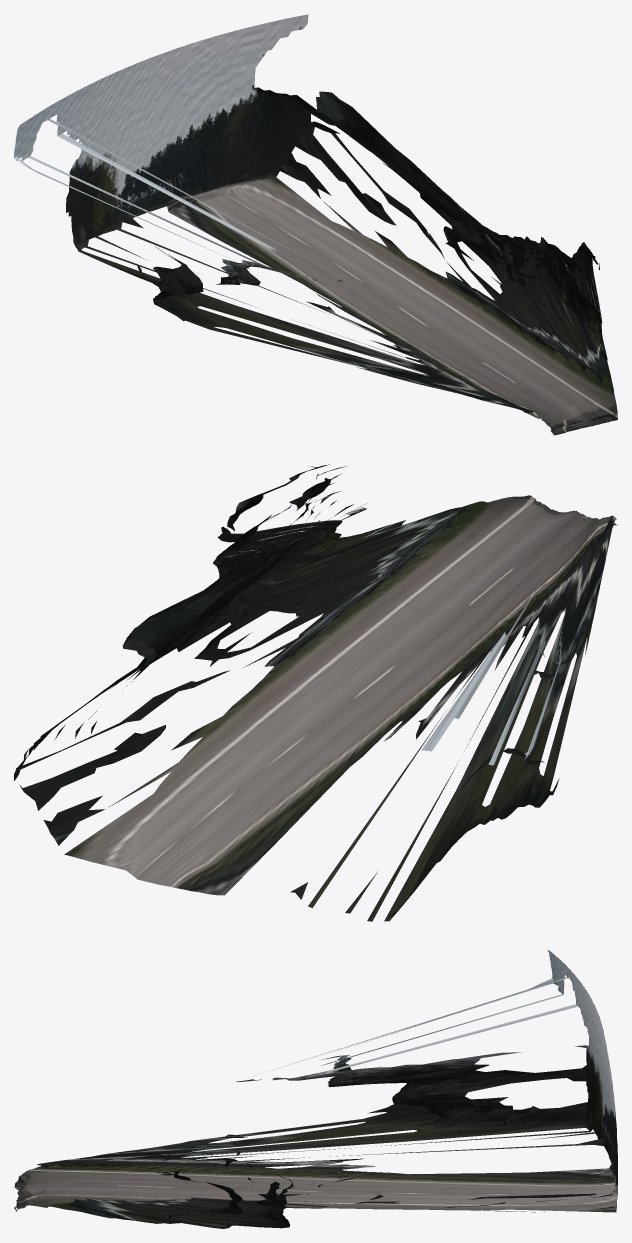
3 renders of one model, top to bottom at view 1: azimuth 30°, elevation 25°; view 2: azimuth 150°, elevation 25°; view 3: azimuth 270°, elevation 25°, orthographic. The views are drawn at different scales.
Visible parts, largest first — view 1: defaultobject; view 2: defaultobject; view 3: defaultobject.
Part boxes in pixels (x1,y1,x2,y2): defaultobject: [14, 14, 617, 435]; defaultobject: [14, 464, 617, 921]; defaultobject: [14, 950, 617, 1228].
Bounding box in the file's own units: 30.17 × 12.35 × 44.48.
Materials: 1 (1 with a texture image).
